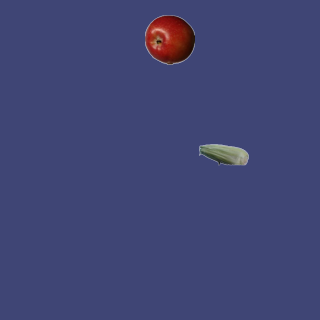Apple Braeburn: (144, 14, 194, 64)
Corn Husk: (198, 129, 248, 179)
